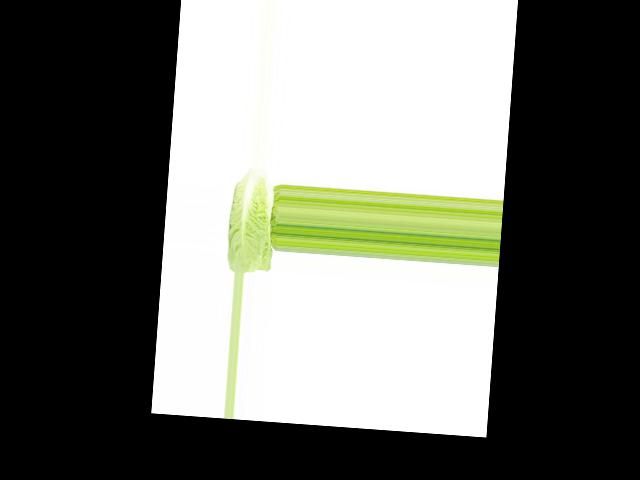lettuce: (218, 166, 276, 275)
